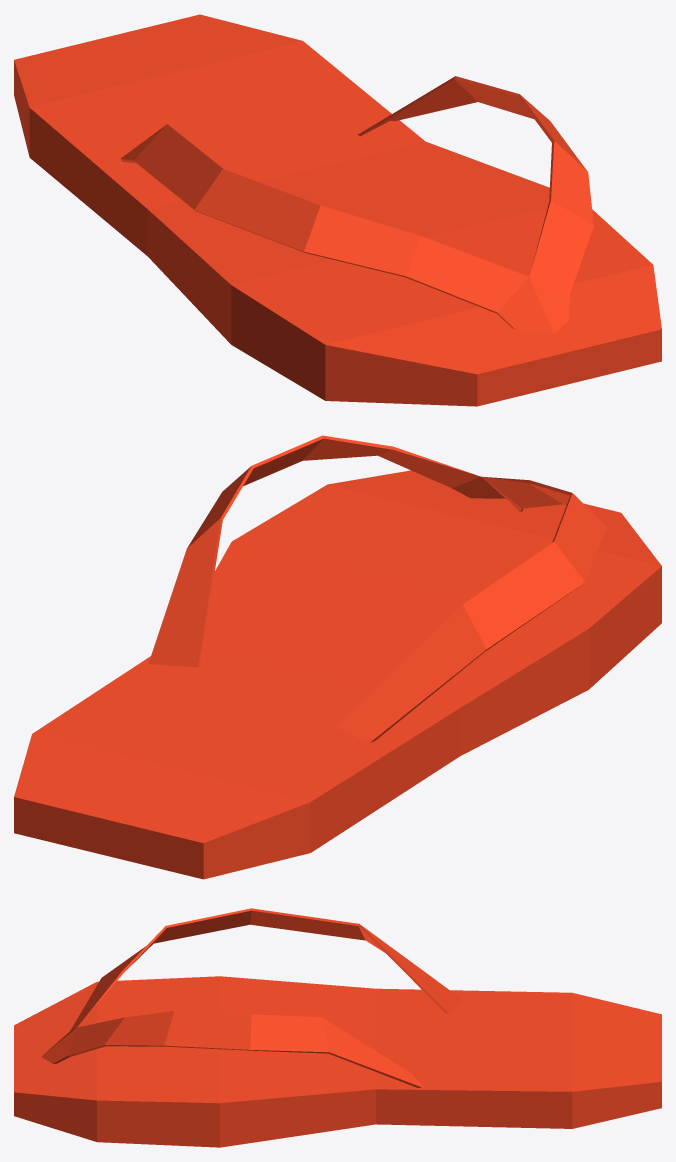
File: SM_Flipflops_R_City.fbx
The picture shows the model from 3 angles, top to bottom: view 1: azimuth 30°, elevation 25°; view 2: azimuth 150°, elevation 25°; view 3: azimuth 270°, elevation 25°; orthographic projection. The views are drawn at different scales.
Visible parts, largest first — view 1: SM_Flipflops_R_City; view 2: SM_Flipflops_R_City; view 3: SM_Flipflops_R_City.
Part boxes in pixels (x1=…): SM_Flipflops_R_City: x1=14, y1=14, x2=661, y2=406; SM_Flipflops_R_City: x1=14, y1=435, x2=661, y2=879; SM_Flipflops_R_City: x1=14, y1=908, x2=661, y2=1147.
Size of the model in its own units: 0.1308 by 0.0544 by 0.2693.
